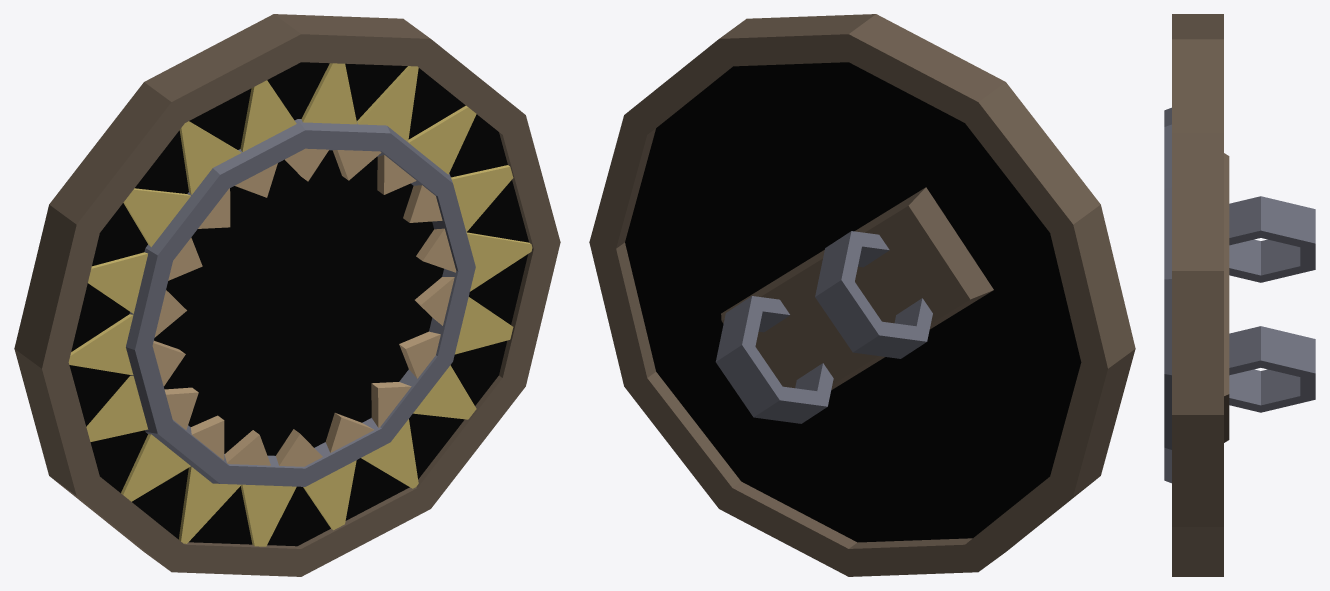
Rendered from shield_shield_5.glb.
3 views of the same model, side by side, from view 1: azimuth 30°, elevation 25°; view 2: azimuth 150°, elevation 25°; view 3: azimuth 270°, elevation 25° (orthographic). The views are drawn at different scales.
Parts seen in each view (by area): view 1: shield_5; view 2: shield_5; view 3: shield_5.
Boxes of the visible parts, x1,y1,x2,y2 form: shield_5: [14, 14, 560, 576]; shield_5: [589, 14, 1135, 576]; shield_5: [1164, 14, 1315, 576].
Size of the model in its own units: 66.24 by 66.24 by 17.77.
1 material, 1 textured.
